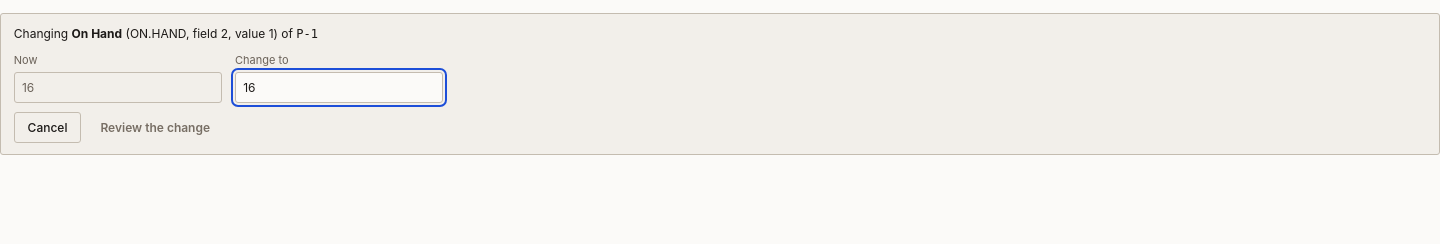
Test: changing a value › reports a clean change as having kept every field's length
The width and height of the screenshot is (1440, 244).
Expected: the button "Review the change" is shown, [88,112,223,143]
Replace the text in the field labelled "Change to" with "20". click: (339, 87)
box: [235,72,443,103]
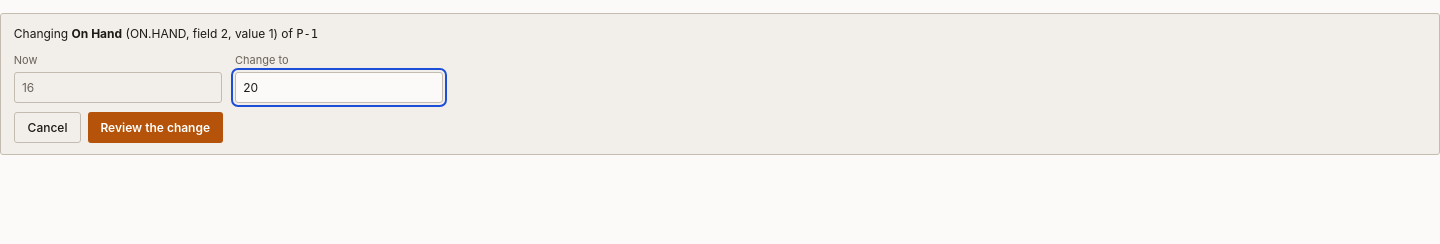
Click the button "Review the change". click: click(155, 128)
box: [88,112,223,143]
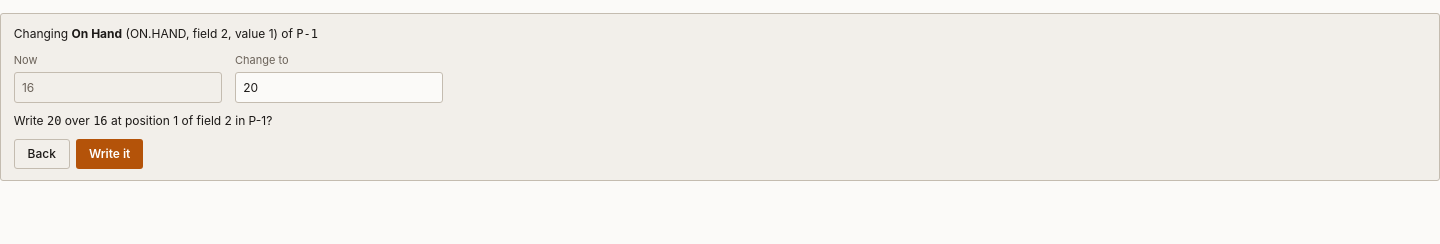
Click the button "Write it". click: click(110, 154)
box: [76,139,143,169]
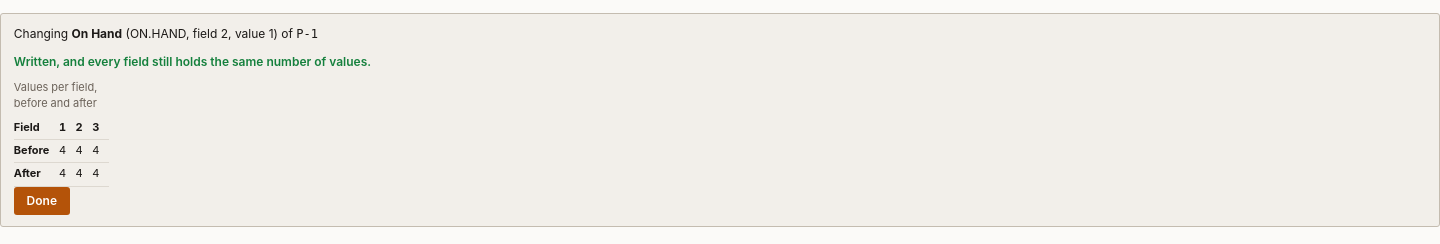
Now the text "still holds the same number of values" is shown, box [14,54,371,69]
